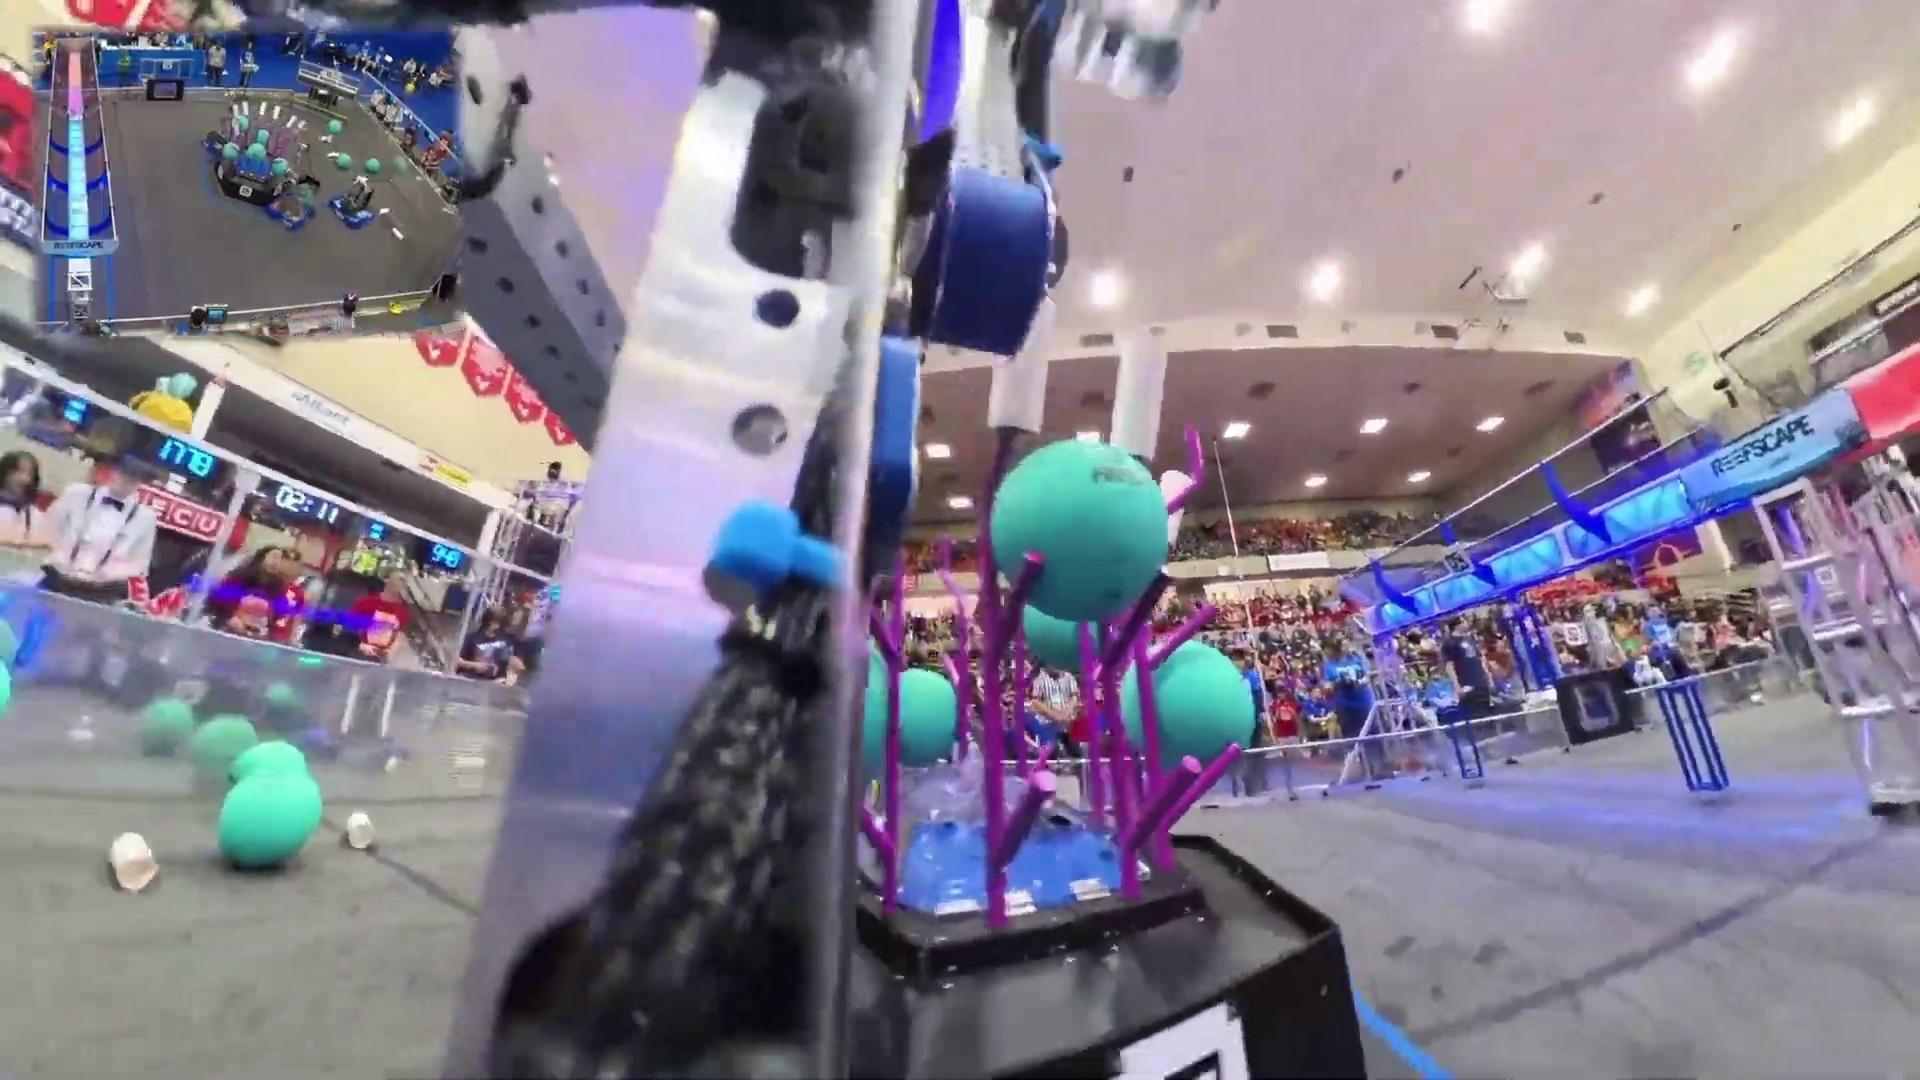robot: (264, 169, 319, 232), (330, 177, 375, 228)
